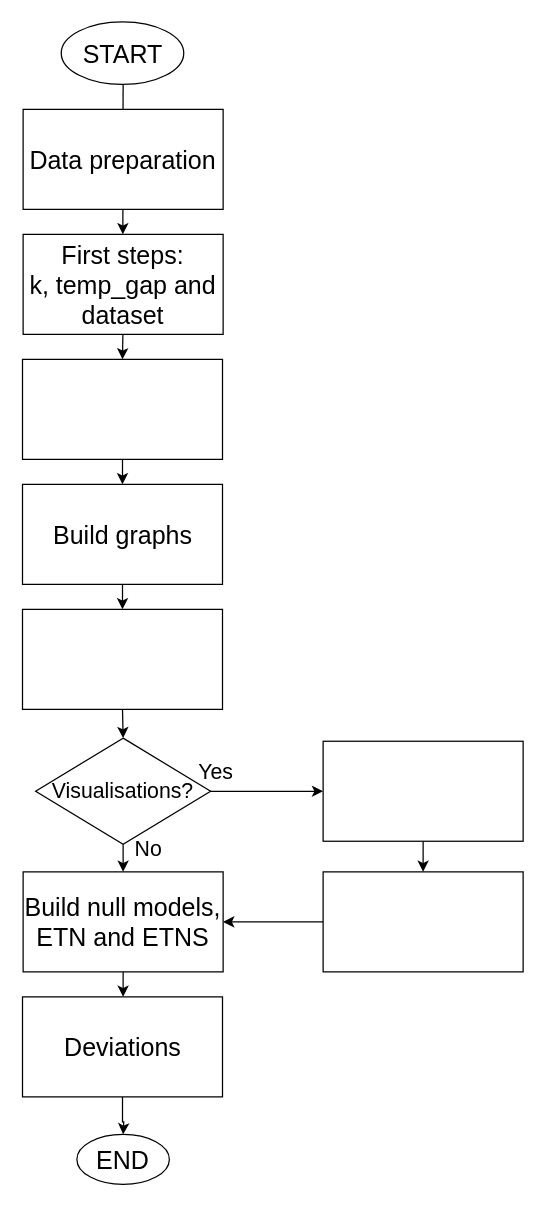
This 545x1206 diagram has some shape labels left out. The box of each missing label's shape, as (x1, y1, x2, y2) in pixels:
Build ETN, ETNS, count frequencies: (21, 608, 222, 709)
Draw Bar chart: (322, 871, 523, 972)
Draw ETN graph: (322, 740, 523, 841)
Load dataset: (21, 358, 222, 459)
